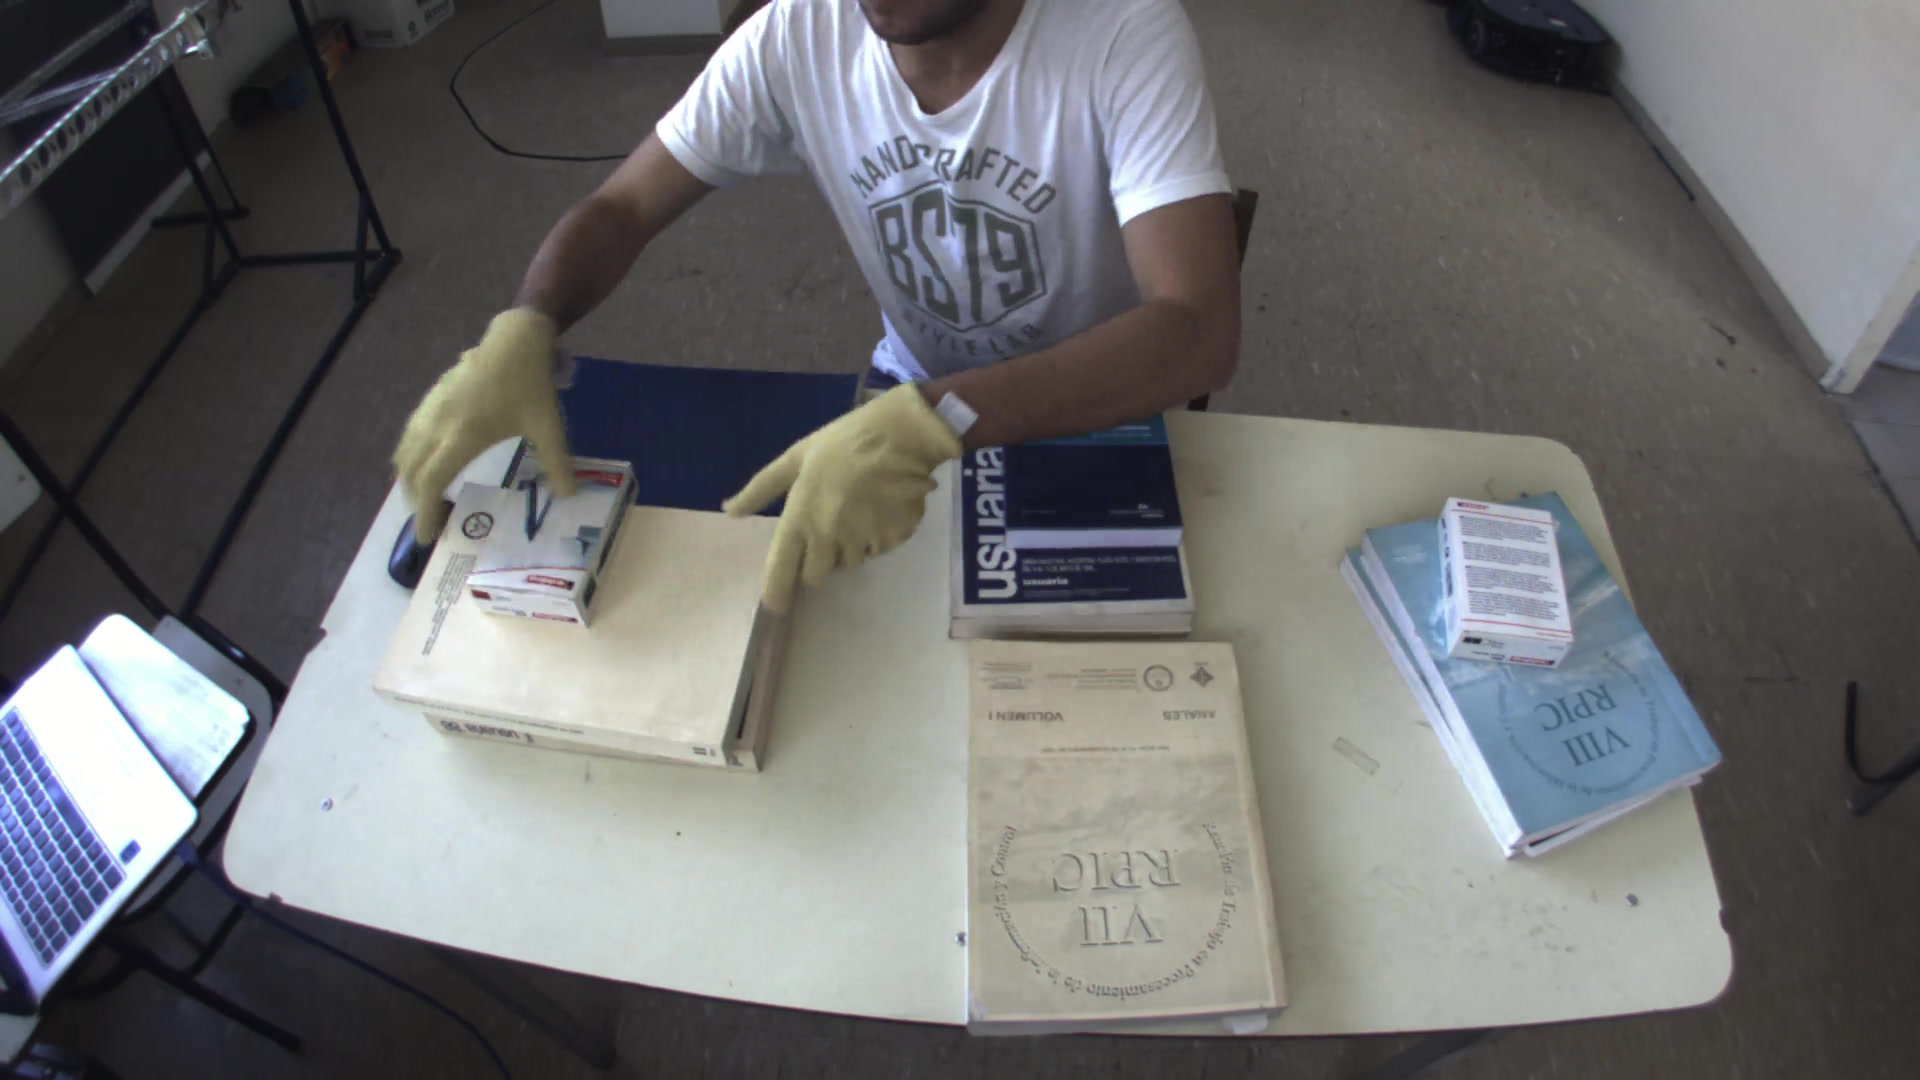hand: (712, 377, 978, 597), (381, 299, 589, 555)
